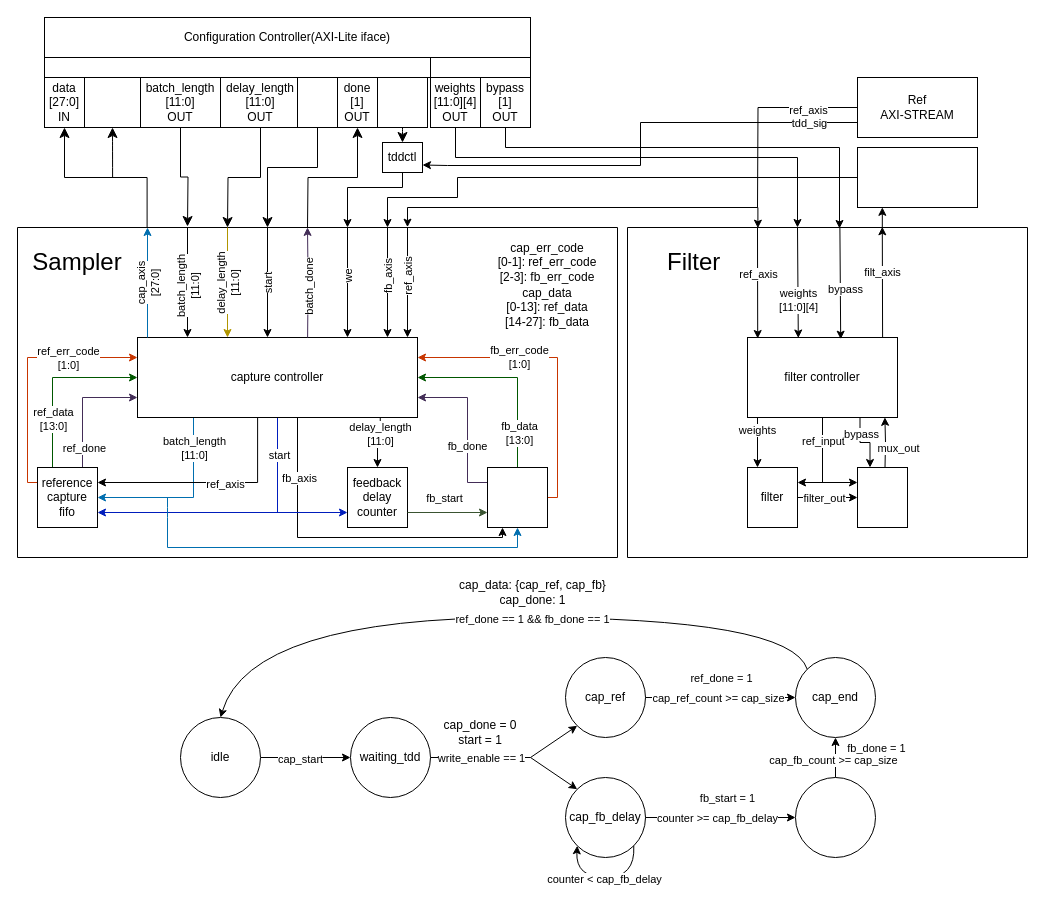
Image size: 1055x903. Some labels were removed from this diagram. The centre of each missing label's shape, as x and y in pixels:
"bypass mux" goes at (882,497).
"cap_fb" goes at (835,817).
"capture_cfg" goes at (237,67).
"err_code [3:0] IN" goes at (112,102).
"feedback capture fifo" goes at (517,497).
"filter_cfg" goes at (480,67).
"PA Feedback AXI-STREAM" goes at (917,177).
"start [1] OUT" goes at (317,102).
"tdd_en [1] OUT" goes at (402,102).
